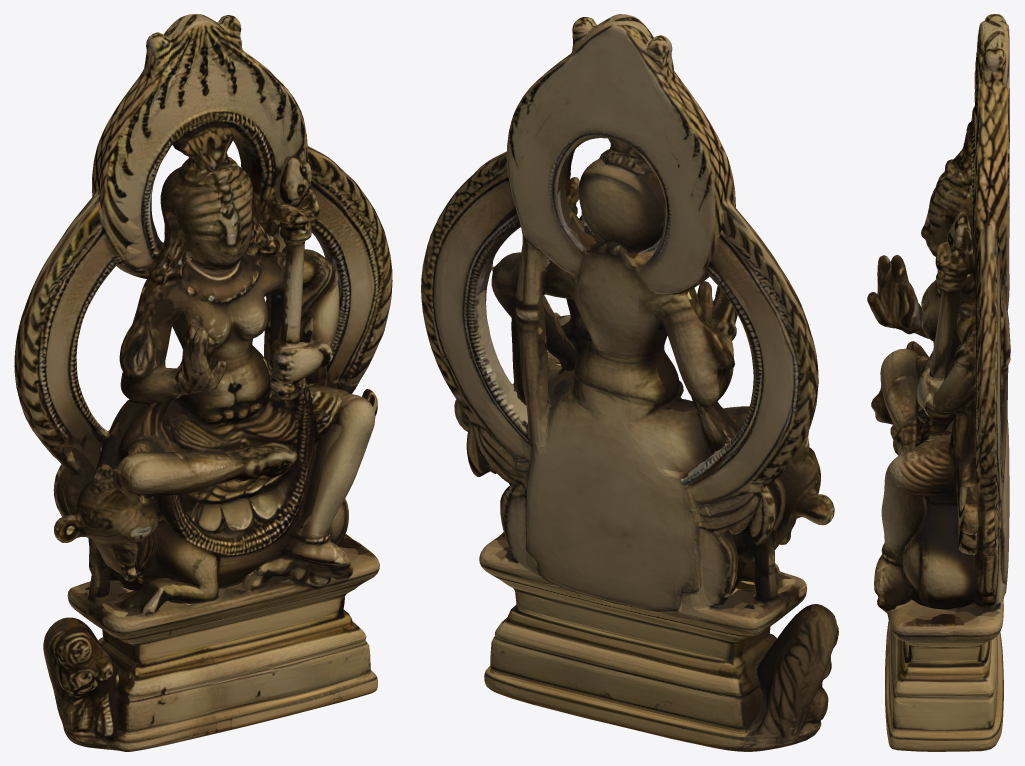
The picture shows the model from 3 angles, left to right: view 1: azimuth 30°, elevation 25°; view 2: azimuth 150°, elevation 25°; view 3: azimuth 270°, elevation 25°; orthographic projection. The views are drawn at different scales.
Visible parts, largest first — view 1: textured_mesh; view 2: textured_mesh; view 3: textured_mesh.
Boxes of the visible parts, x1=… form: textured_mesh: x1=14, y1=14, x2=392, y2=751; textured_mesh: x1=421, y1=14, x2=838, y2=751; textured_mesh: x1=867, y1=14, x2=1010, y2=751.
Size of the model in its own units: 1.16 by 1.99 by 0.3908.
1 material, 1 textured.
